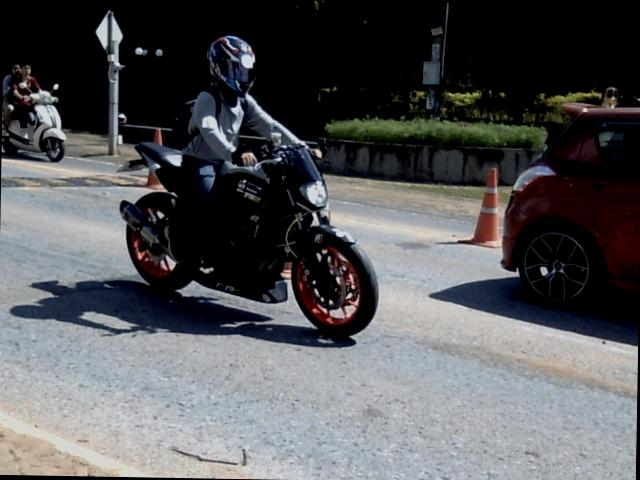helmet: (205, 33, 255, 94)
motor: (119, 136, 378, 336), (2, 83, 66, 160)
person: (164, 34, 305, 265), (11, 59, 40, 118), (2, 61, 20, 132)
